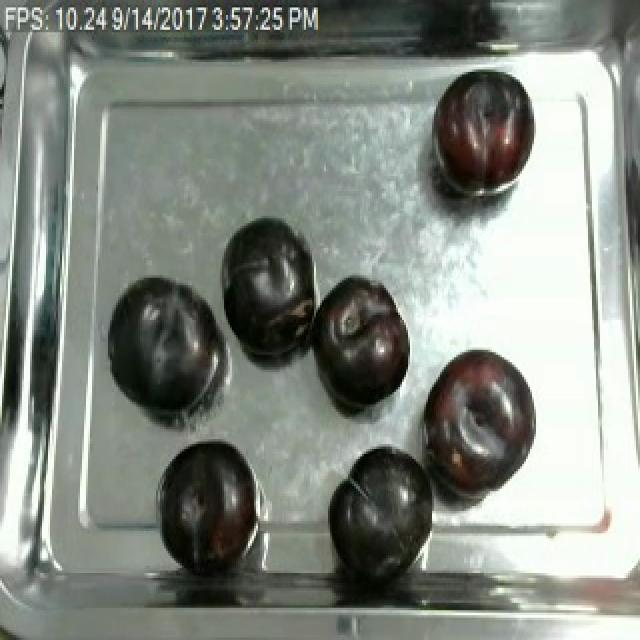Fruit: (416, 340, 540, 506), (100, 268, 226, 422), (154, 432, 266, 570), (216, 211, 316, 365), (428, 64, 538, 201), (308, 270, 412, 412)
